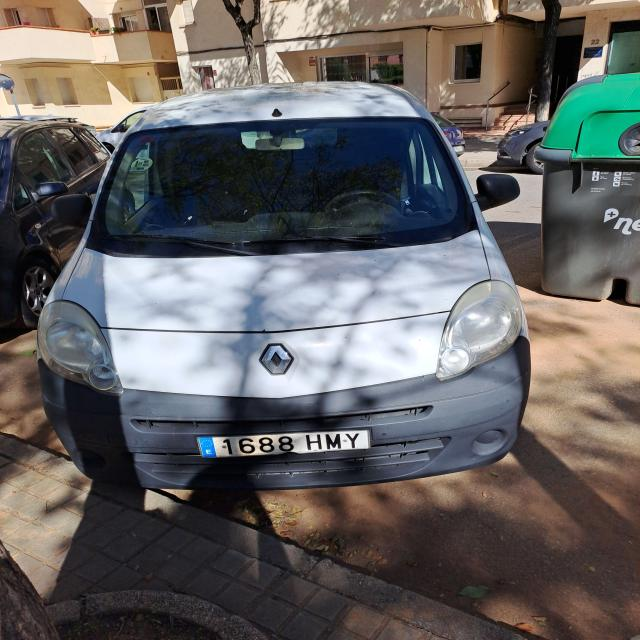license_plate-34Td: (198, 430, 370, 458)
